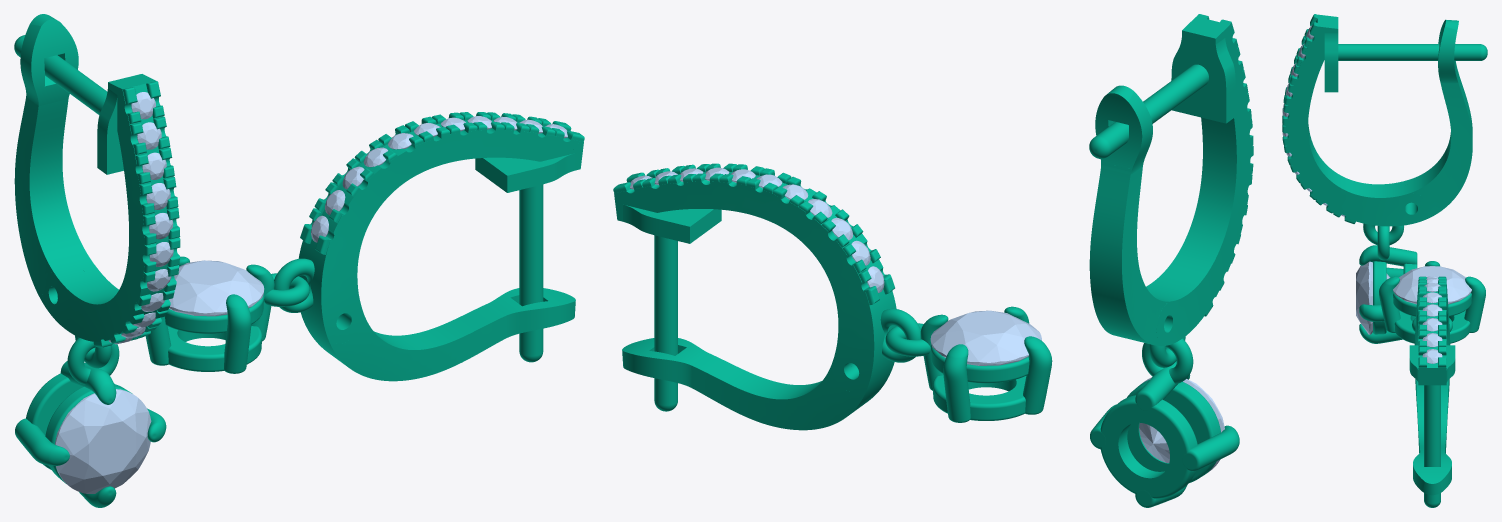
3 renders of one model, left to right at view 1: azimuth 30°, elevation 25°; view 2: azimuth 150°, elevation 25°; view 3: azimuth 270°, elevation 25°, orthographic. The views are drawn at different scales.
Visible parts, largest first — view 1: VEAR153.3dm, Diamond_Round (×2), Bezel (×4), Head Prong (×5); view 2: VEAR153.3dm, Bezel (×4), Head Prong (×5), Diamond_Round (×2); view 3: VEAR153.3dm, Head Prong (×5), Diamond_Round (×2), Bezel (×3).
Boxes of the visible parts, x1,y1,x2,y2 form: VEAR153.3dm: (14,14,584,384); Diamond_Round (×2): (55,260,264,493); Bezel (×4): (26,295,263,483); Head Prong (×5): (15,264,274,465); VEAR153.3dm: (613,14,1253,430); Bezel (×4): (931,345,1220,498); Head Prong (×5): (920,314,1239,471); Diamond_Round (×2): (930,310,1224,472); VEAR153.3dm: (1282,14,1487,507); Head Prong (×5): (1359,245,1485,343); Diamond_Round (×2): (1356,261,1471,334); Bezel (×3): (1373,261,1471,343).
Bounding box in the file's own units: 3.04 × 2.26 × 1.3.
